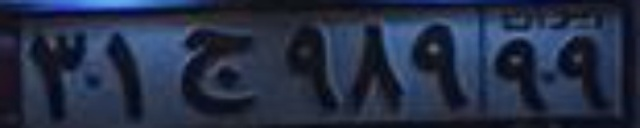1: (103, 33, 147, 120)
3: (27, 30, 90, 120)
8: (346, 23, 404, 111)
9: (410, 22, 476, 111), (279, 26, 339, 110), (491, 37, 544, 112), (553, 36, 606, 108)
jim: (179, 28, 261, 115)
